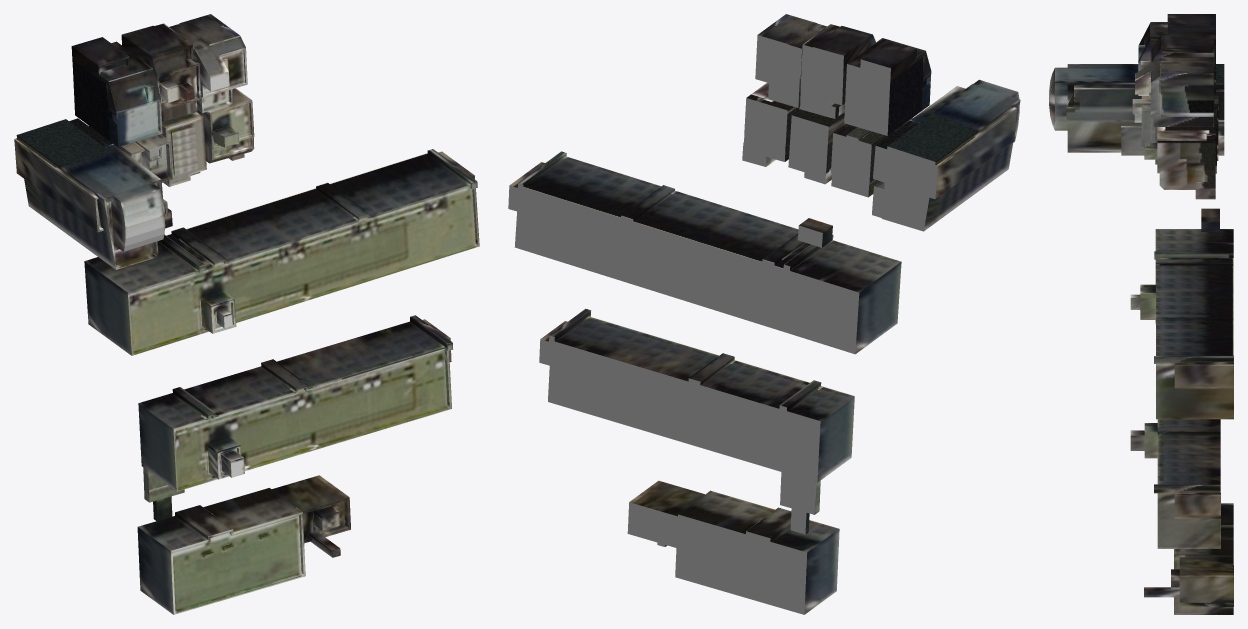
The model's file is 53393597_bldg_6677.obj.
3 views of the same model, side by side, from view 1: azimuth 30°, elevation 25°; view 2: azimuth 150°, elevation 25°; view 3: azimuth 270°, elevation 25° (orthographic). The views are drawn at different scales.
Size of the model in its own units: 75.52 by 95.19 by 30.91.
11 materials, 11 textured.
